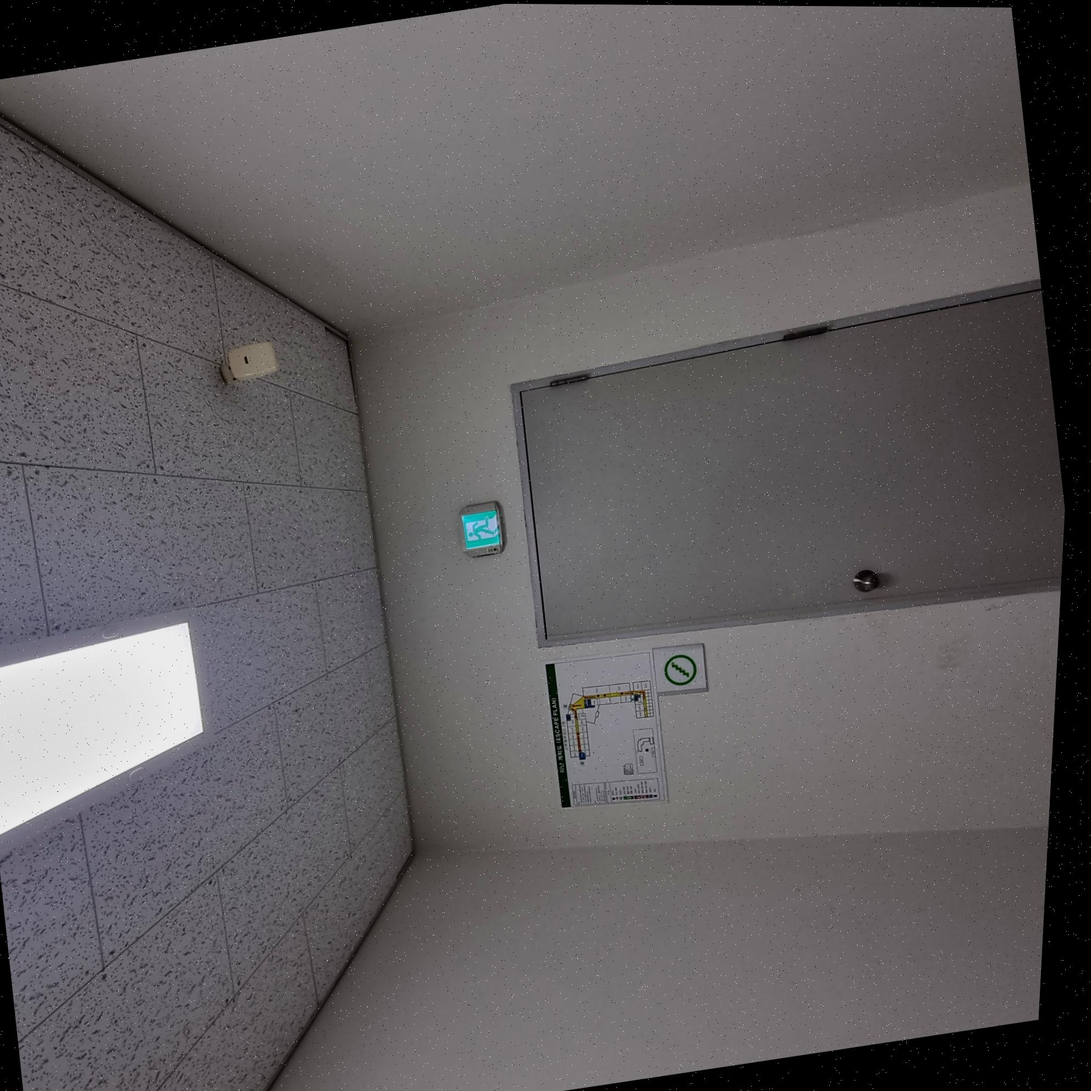emergency_exit: (545, 651, 669, 808), (651, 642, 709, 694), (458, 501, 504, 557)
